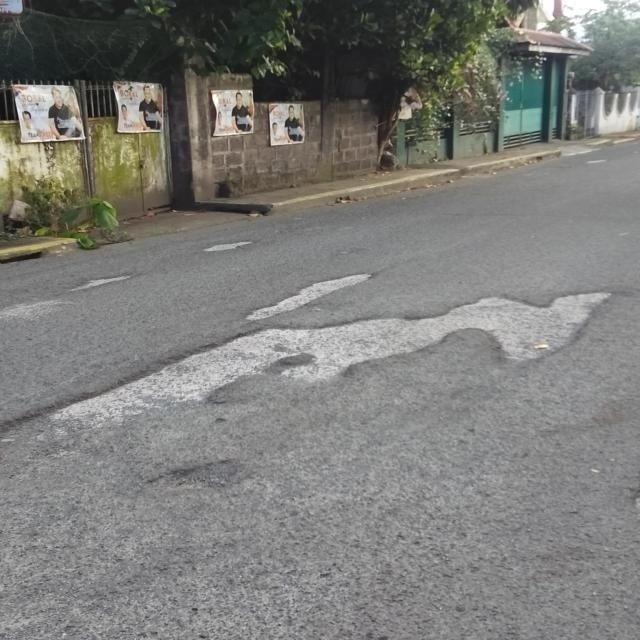pothole: (0, 262, 640, 434)
